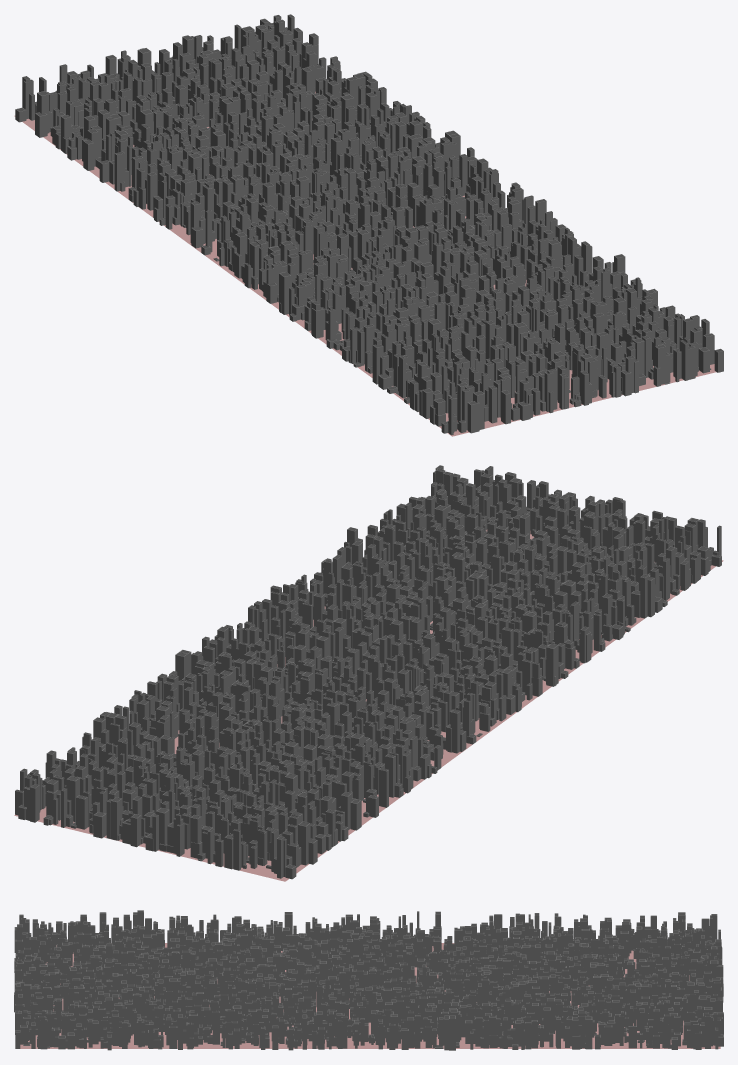
File: City.fbx
The picture shows the model from 3 angles, top to bottom: view 1: azimuth 30°, elevation 25°; view 2: azimuth 150°, elevation 25°; view 3: azimuth 270°, elevation 25°; orthographic projection. The views are drawn at different scales.
Visible parts, largest first — view 1: CityRasterized; view 2: CityRasterized; view 3: CityRasterized.
Part boxes in pixels (x1,y1,x2,y2): CityRasterized: [14, 14, 723, 436]; CityRasterized: [14, 465, 723, 881]; CityRasterized: [14, 910, 723, 1050].
Bounding box in the file's own units: 36873 × 5204 × 101384.
